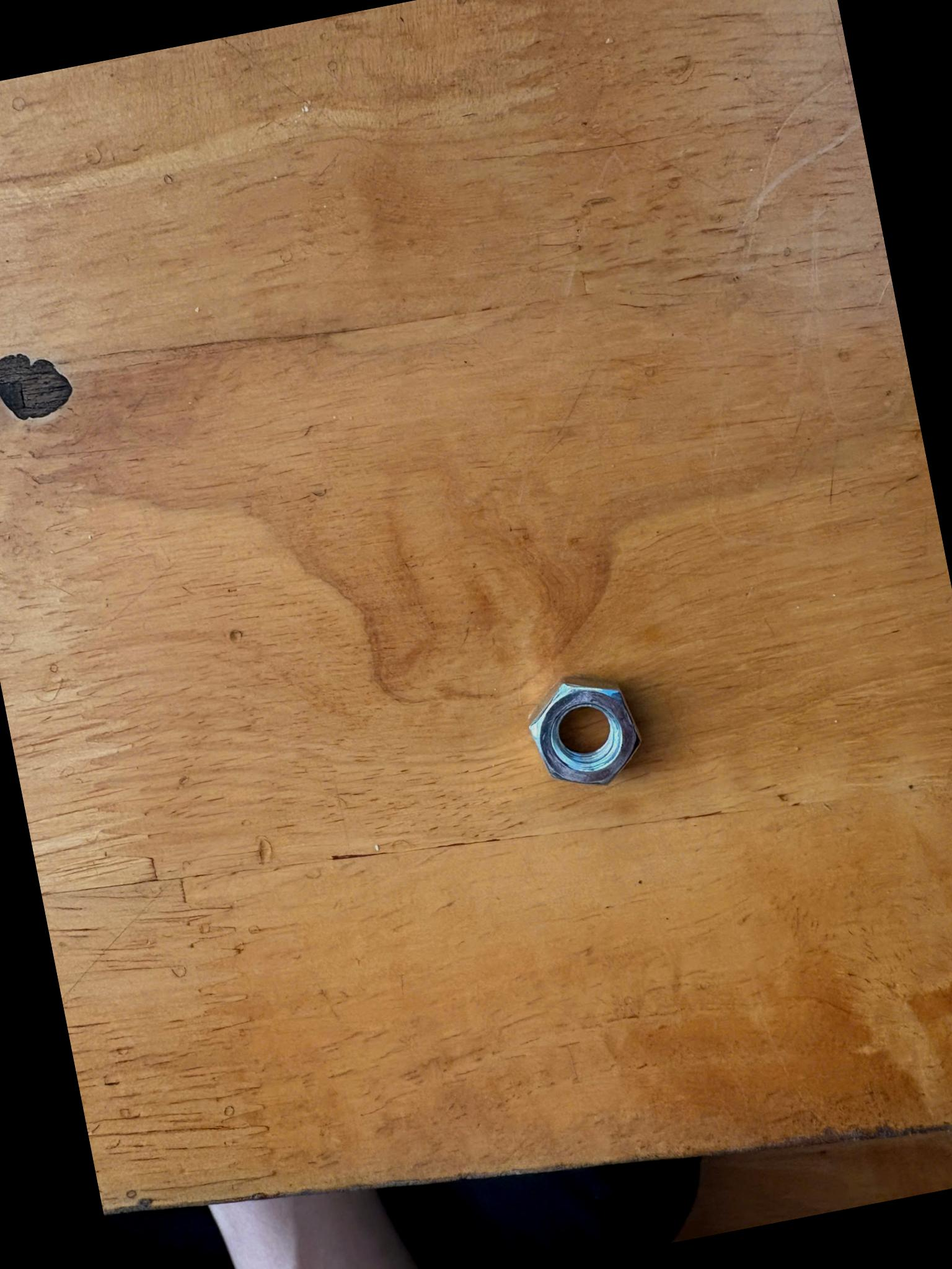nut: (512, 661, 653, 815)
